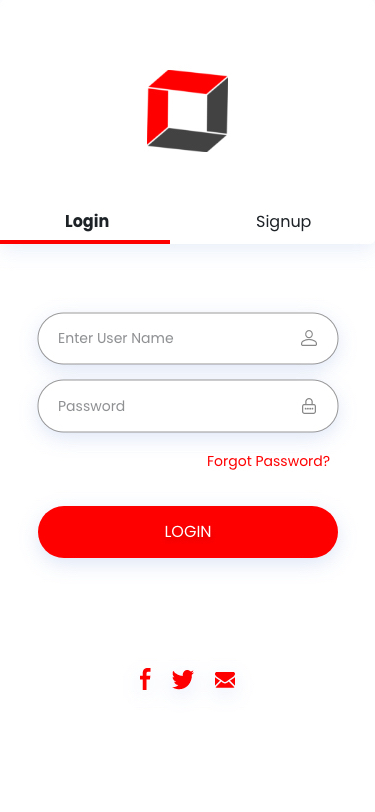EditText: (38, 312, 340, 366), (38, 379, 340, 433)
Icon: (172, 669, 195, 690), (215, 671, 236, 689), (140, 667, 152, 691), (301, 330, 317, 347), (302, 399, 316, 415)
Image: (147, 70, 229, 154)
Multi_Tab: (2, 195, 375, 245)
Text: (208, 455, 330, 471), (60, 333, 174, 344), (257, 215, 311, 233), (66, 213, 110, 233), (60, 400, 126, 412)
TextButton: (38, 506, 339, 559)
